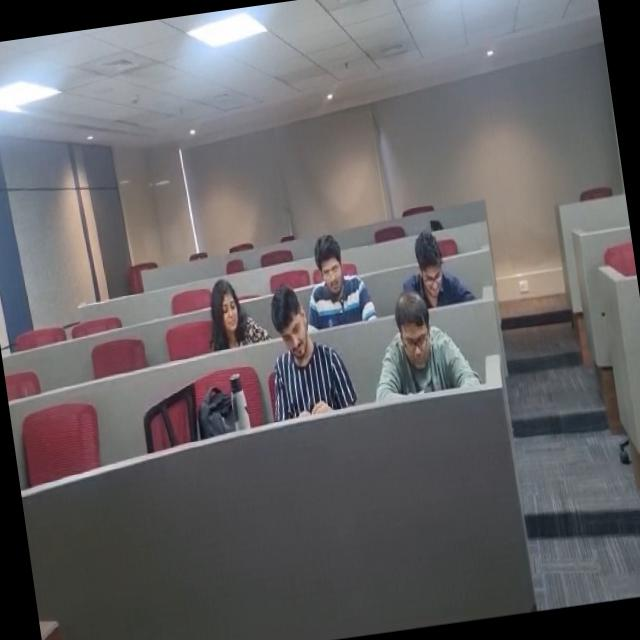cheating: (262, 286, 340, 428)
non-cheating: (372, 298, 471, 404), (299, 230, 373, 328), (401, 227, 470, 314), (197, 266, 264, 352)
